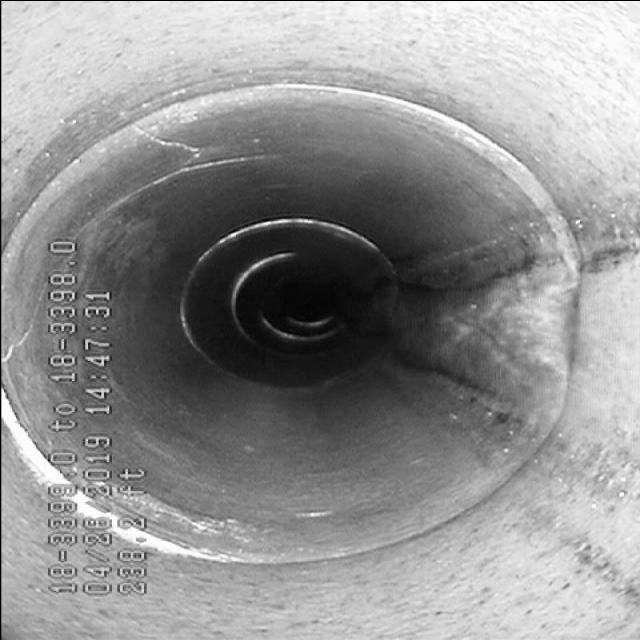Crack: (73, 90, 272, 205)
